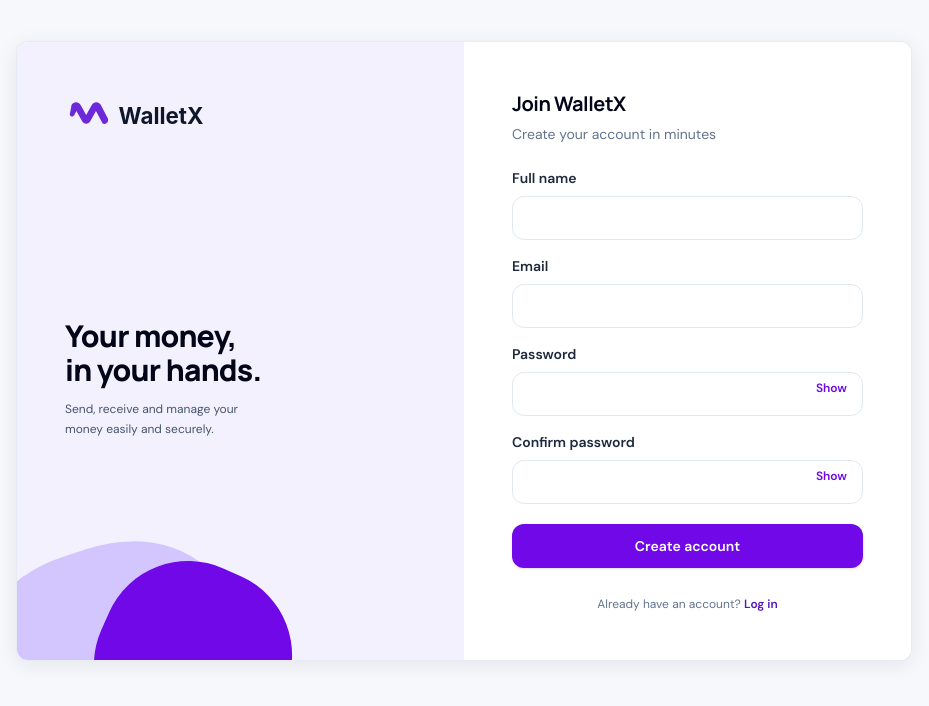
Test case: RegisterPage › shows loading and a simulated registration success state
This screenshot has width=929, height=706.
Type "Kiran" into the field labelled "Full name".
click(688, 218); type("Kiran")  # box [512, 196, 863, 240]
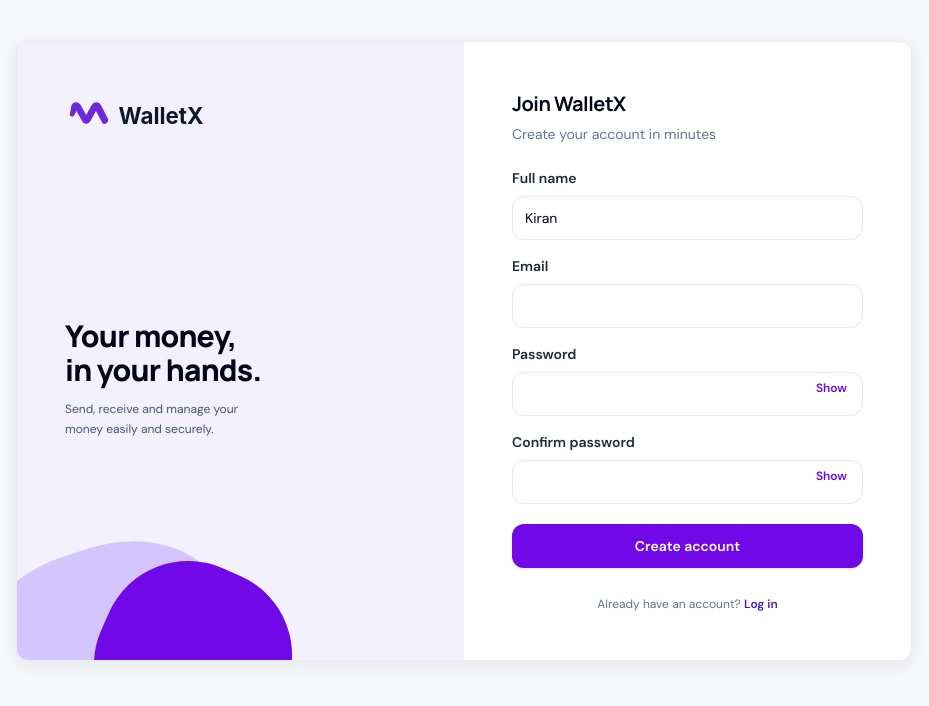
Type "kiran@example.com" into the field labelled "Email".
click(688, 306); type("kiran@example.com")  # box [512, 284, 863, 328]
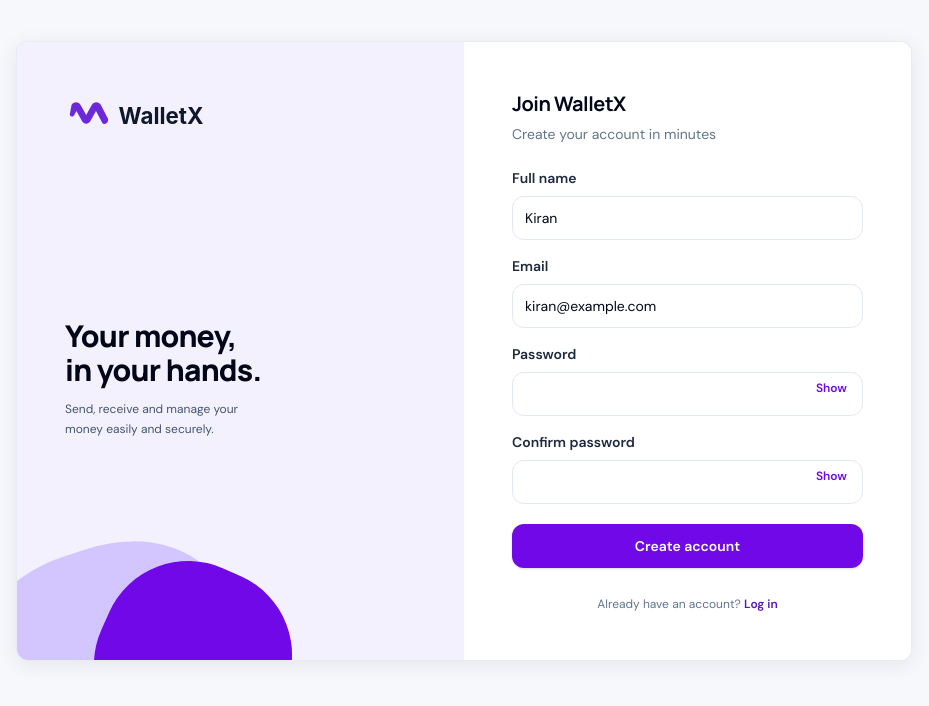
Type "password" into the password field labelled "Password".
click(688, 394); type("password")  # box [512, 372, 863, 416]
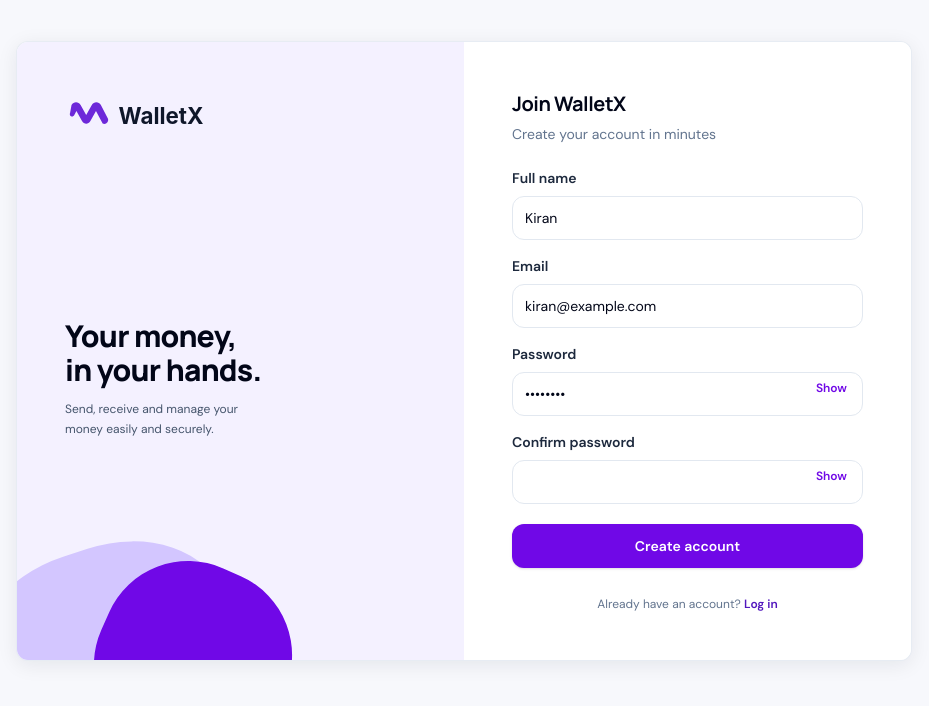
Type "password" into the password field labelled "Confirm password".
click(688, 482); type("password")  # box [512, 460, 863, 504]
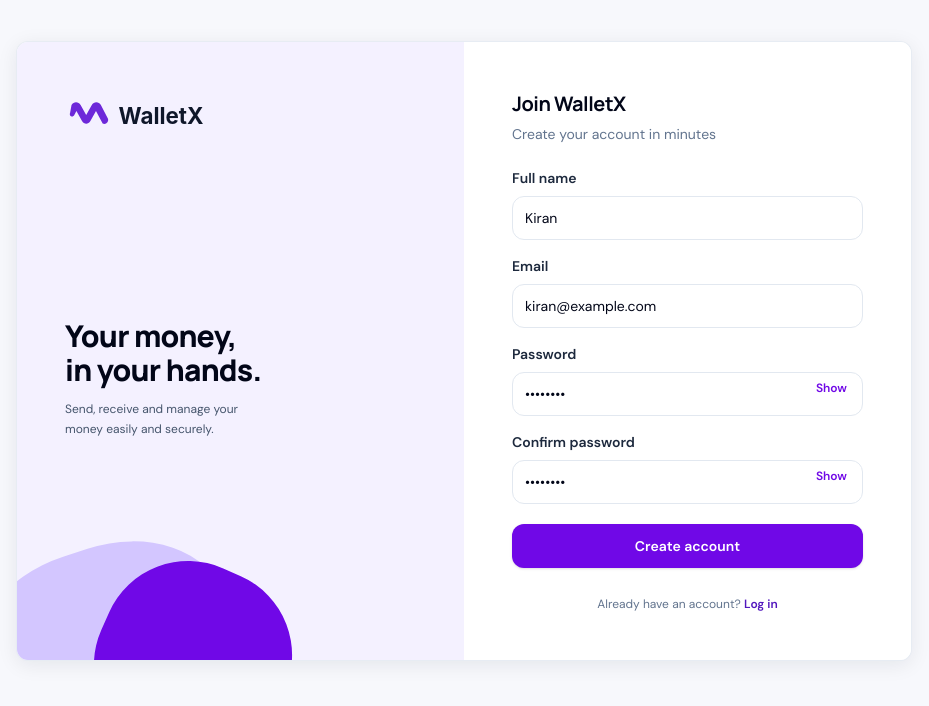
Click the button "Create account".
click(688, 546)  # box [512, 524, 863, 568]
Wait 500 ms
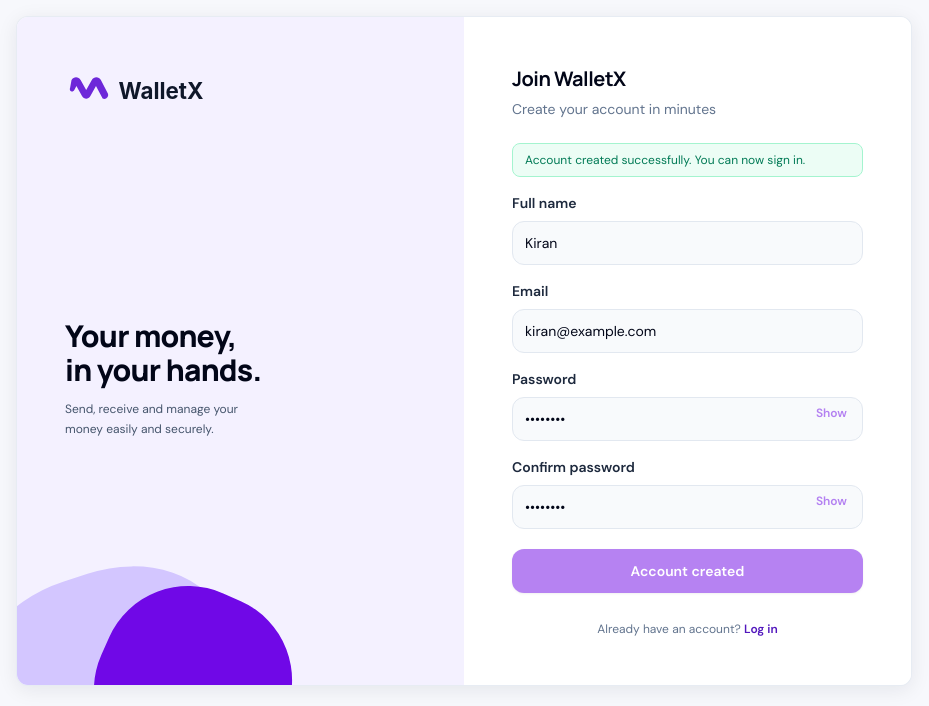
Result: the button named "Loading" is disabled at [512, 549, 863, 593]
Result: the message shows "Account created successfully" at [525, 152, 805, 168]
Result: the button "Account created" is disabled at [512, 549, 863, 593]
